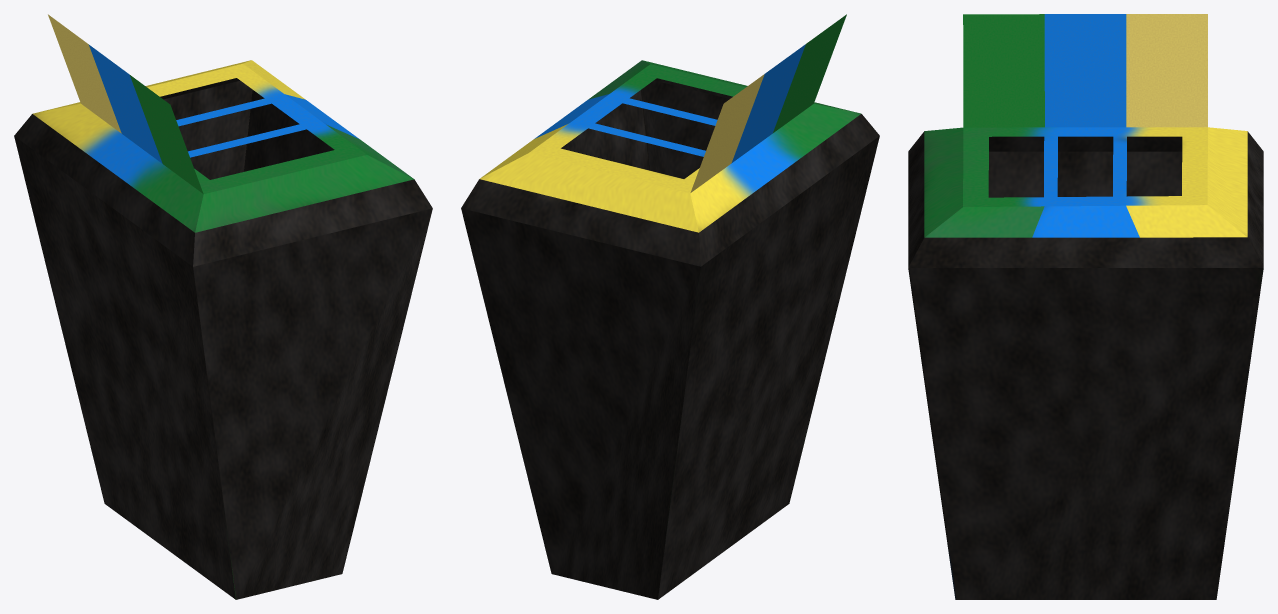
Rendered from TRASH.fbx.
3 views of the same model, side by side, from view 1: azimuth 30°, elevation 25°; view 2: azimuth 150°, elevation 25°; view 3: azimuth 270°, elevation 25° (orthographic).
Parts seen in each view (by area): view 1: Cube; view 2: Cube; view 3: Cube.
Part boxes in pixels (x1,y1,x2,y2): Cube: (14,14,432,599); Cube: (461,14,879,599); Cube: (908,14,1263,599).
Size of the model in its own units: 82.84 by 168 by 107.
1 material, 1 textured.
